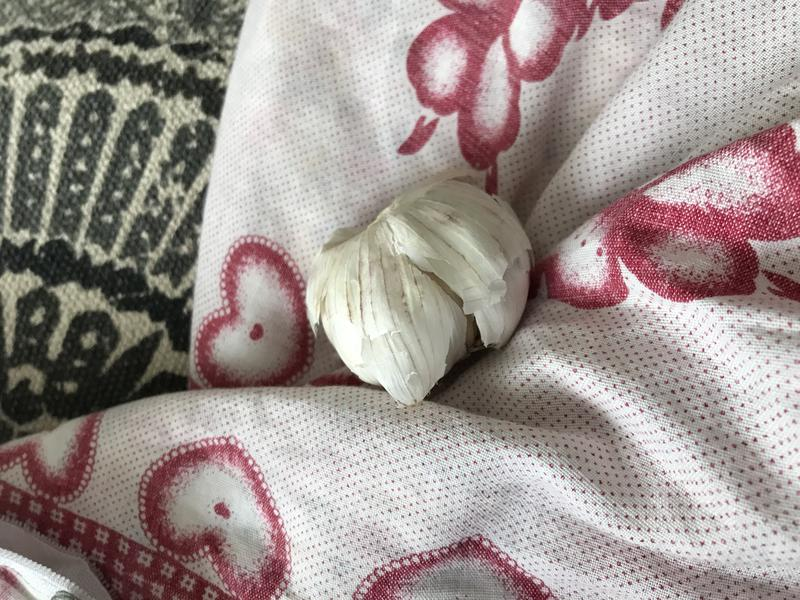garlic: (300, 169, 548, 417)
